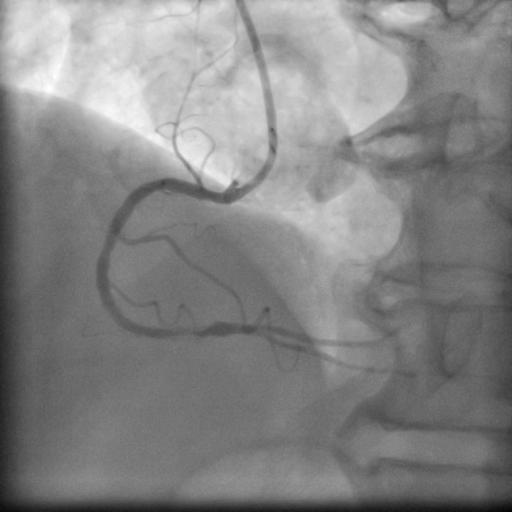Stenosis: (170, 321, 212, 340)
